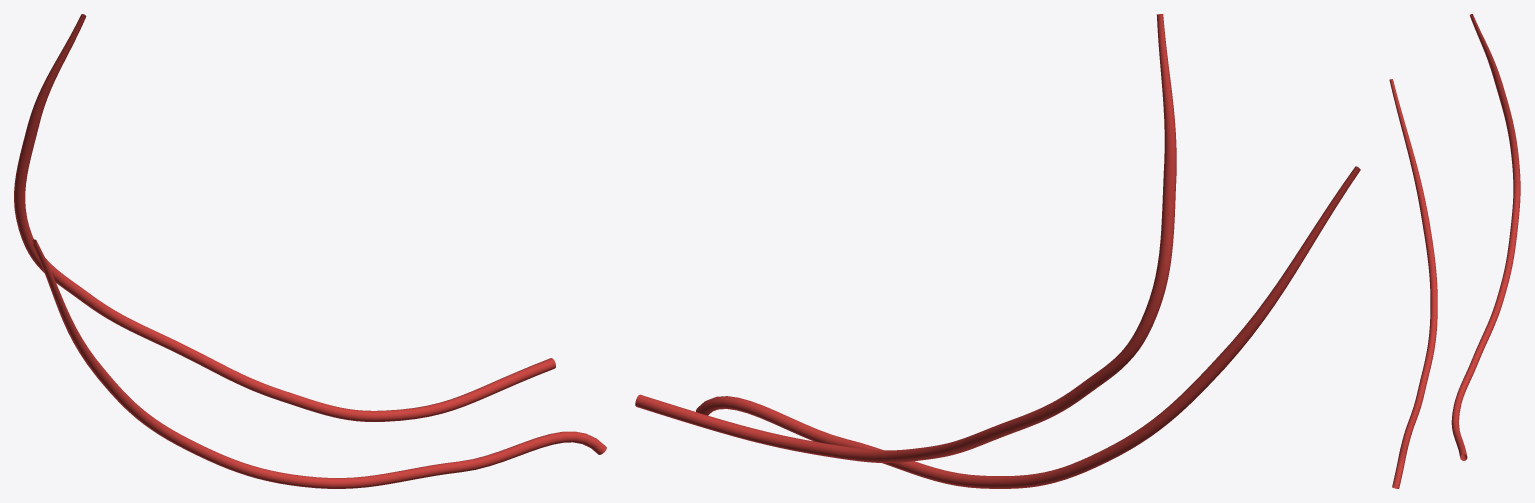
3 renders of one model, left to right at view 1: azimuth 30°, elevation 25°; view 2: azimuth 150°, elevation 25°; view 3: azimuth 270°, elevation 25°, orthographic. The views are drawn at different scales.
Parts seen in each view (by area): view 1: 右侧基底动脉短旋支; view 2: 右侧基底动脉短旋支; view 3: 右侧基底动脉短旋支.
Part boxes in pixels (x1,y1,x2,y2): 右侧基底动脉短旋支: (14, 14, 606, 488); 右侧基底动脉短旋支: (635, 14, 1360, 488); 右侧基底动脉短旋支: (1389, 14, 1520, 488).
Bounding box in the file's own units: 0.0347 × 0.0292 × 0.0105.
